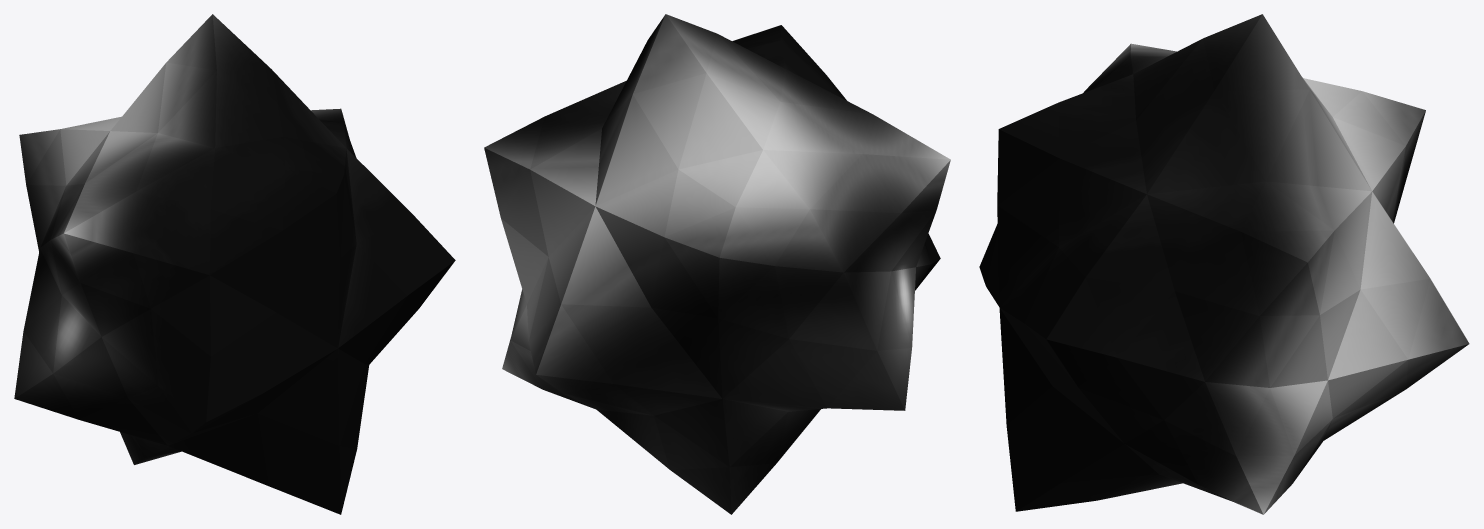
The model's file is meteorite.fbx.
3 renders of one model, left to right at view 1: azimuth 30°, elevation 25°; view 2: azimuth 150°, elevation 25°; view 3: azimuth 270°, elevation 25°, orthographic. The views are drawn at different scales.
Parts seen in each view (by area): view 1: bit; view 2: bit; view 3: bit.
Boxes of the visible parts, bbox=[...] form: bit: bbox=[14, 14, 455, 514]; bit: bbox=[484, 14, 950, 514]; bit: bbox=[979, 14, 1469, 514].
Bounding box in the file's own units: 7.05 × 8.22 × 7.27.
Materials: 1 (1 with a texture image).
